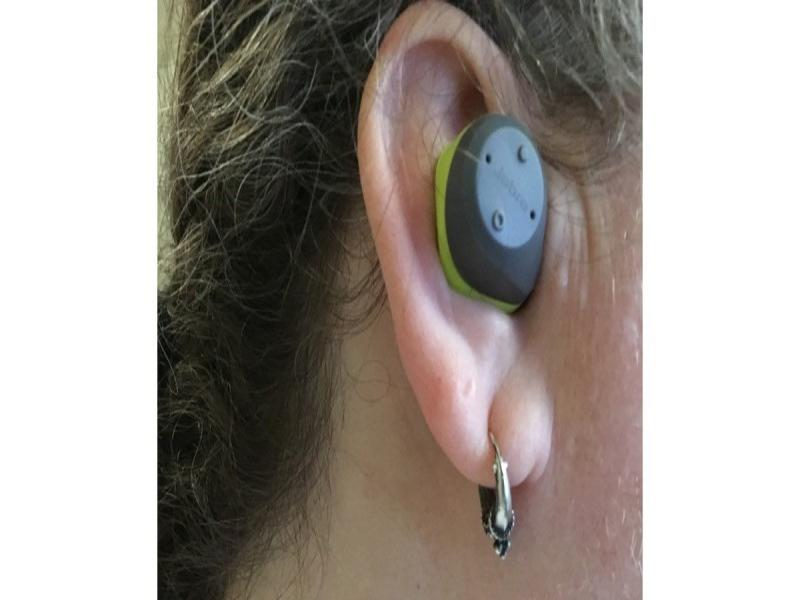headphone: (432, 108, 550, 309)
